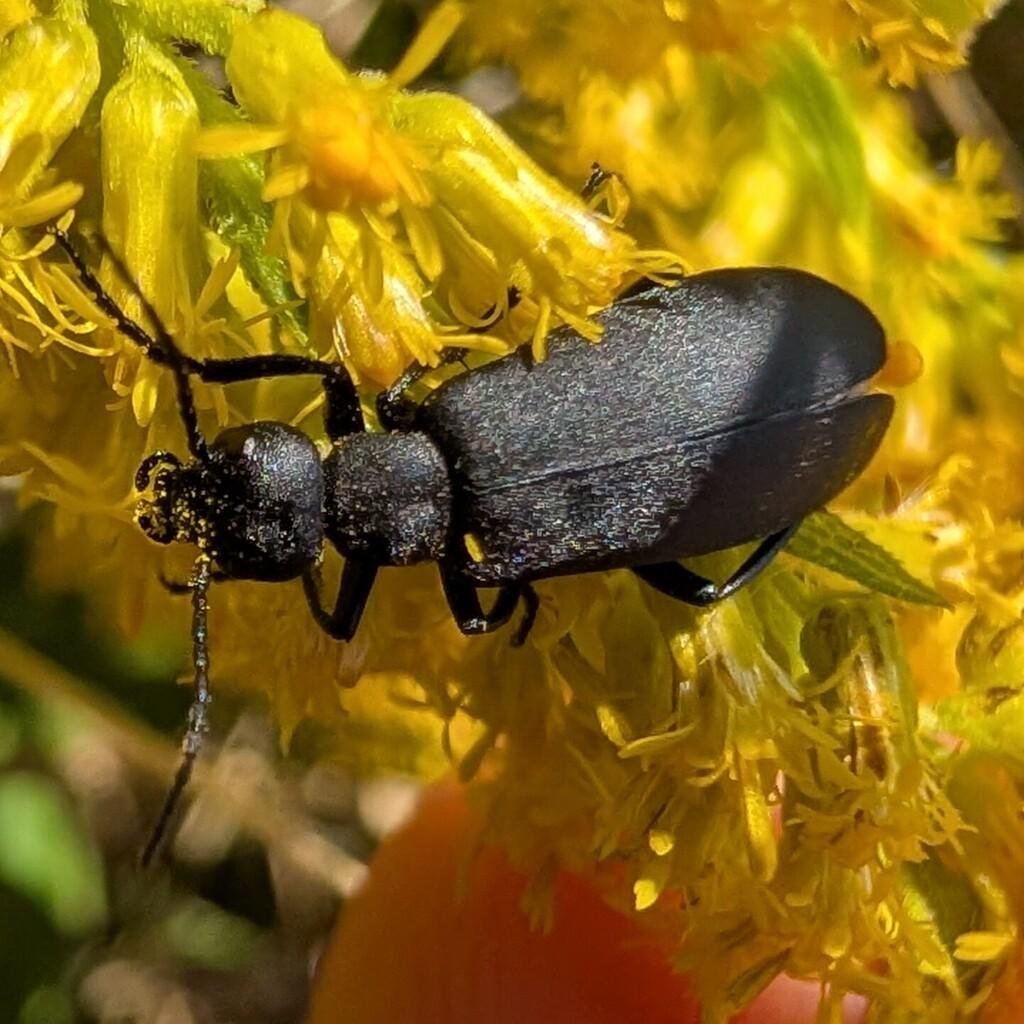blister_beetle: (0, 181, 1003, 934)
